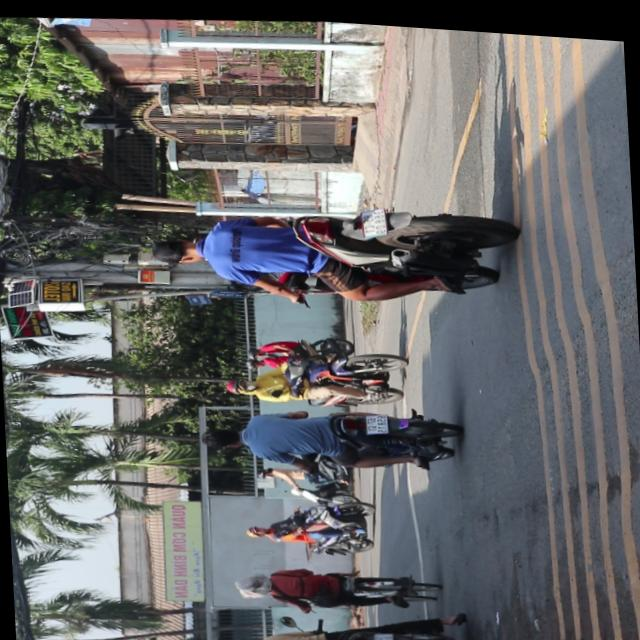helmet: (222, 371, 255, 390), (224, 639, 262, 640)
licenseplate: (144, 180, 516, 316), (198, 386, 464, 479), (219, 334, 409, 412), (222, 598, 471, 640)
motorcyclist: (149, 230, 204, 266), (200, 419, 245, 446)
nohelmet: (359, 201, 384, 231), (364, 408, 387, 428), (371, 626, 392, 640)
